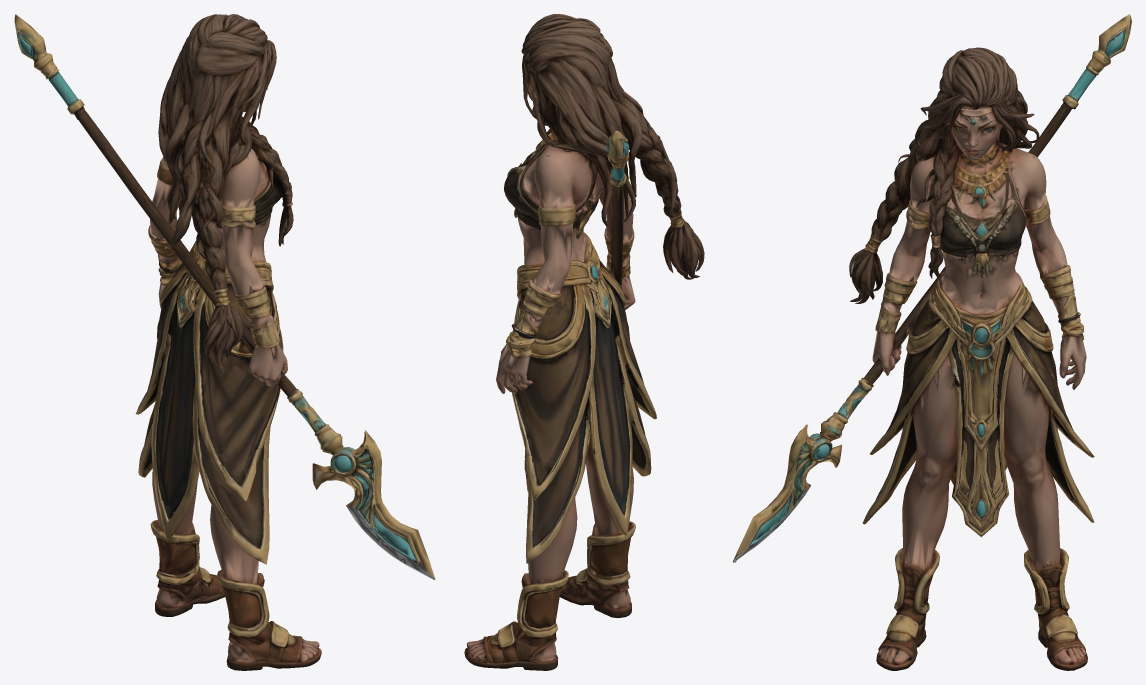
File: warrior.glb
The picture shows the model from 3 angles, left to right: view 1: azimuth 30°, elevation 25°; view 2: azimuth 150°, elevation 25°; view 3: azimuth 270°, elevation 25°; orthographic projection. The views are drawn at different scales.
Parts seen in each view (by area): view 1: tripo_node_1a7fb0cf-0614-4dcb-a6e2-645231bb9bac; view 2: tripo_node_1a7fb0cf-0614-4dcb-a6e2-645231bb9bac; view 3: tripo_node_1a7fb0cf-0614-4dcb-a6e2-645231bb9bac.
Boxes of the visible parts, <box> form: tripo_node_1a7fb0cf-0614-4dcb-a6e2-645231bb9bac: <box>14,14,435,670</box>; tripo_node_1a7fb0cf-0614-4dcb-a6e2-645231bb9bac: <box>464,14,704,670</box>; tripo_node_1a7fb0cf-0614-4dcb-a6e2-645231bb9bac: <box>733,14,1131,670</box>.
Size of the model in its own units: 0.3605 by 0.9785 by 0.5962.
1 material, 1 textured.
